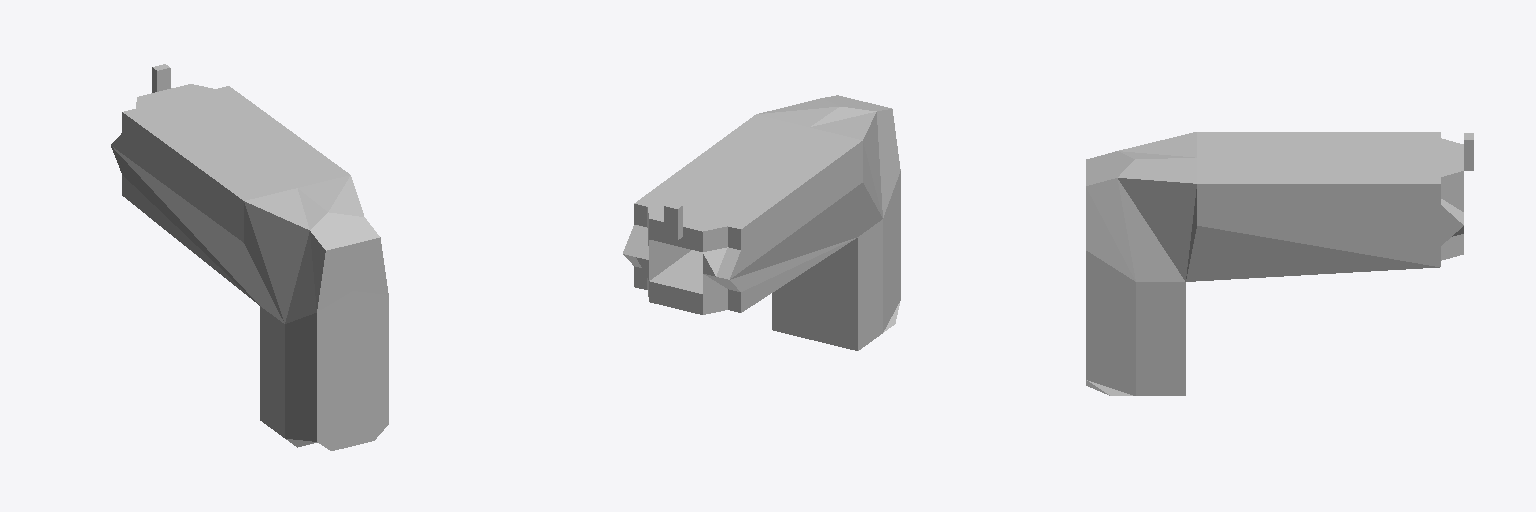
The model's file is gun.obj.
3 renders of one model, left to right at view 1: azimuth 30°, elevation 25°; view 2: azimuth 150°, elevation 25°; view 3: azimuth 270°, elevation 25°, orthographic.
Visible parts, largest first — view 1: gun; view 2: gun; view 3: gun.
Part boxes in pixels (x1,y1,x2,y2): gun: (111,64,388,450); gun: (623,95,900,350); gun: (1086,132,1473,395).
Size of the model in its own units: 2 by 4.27 by 6.3.